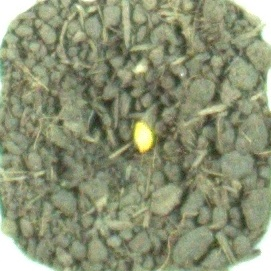pepper seed: (53, 43, 211, 197)
